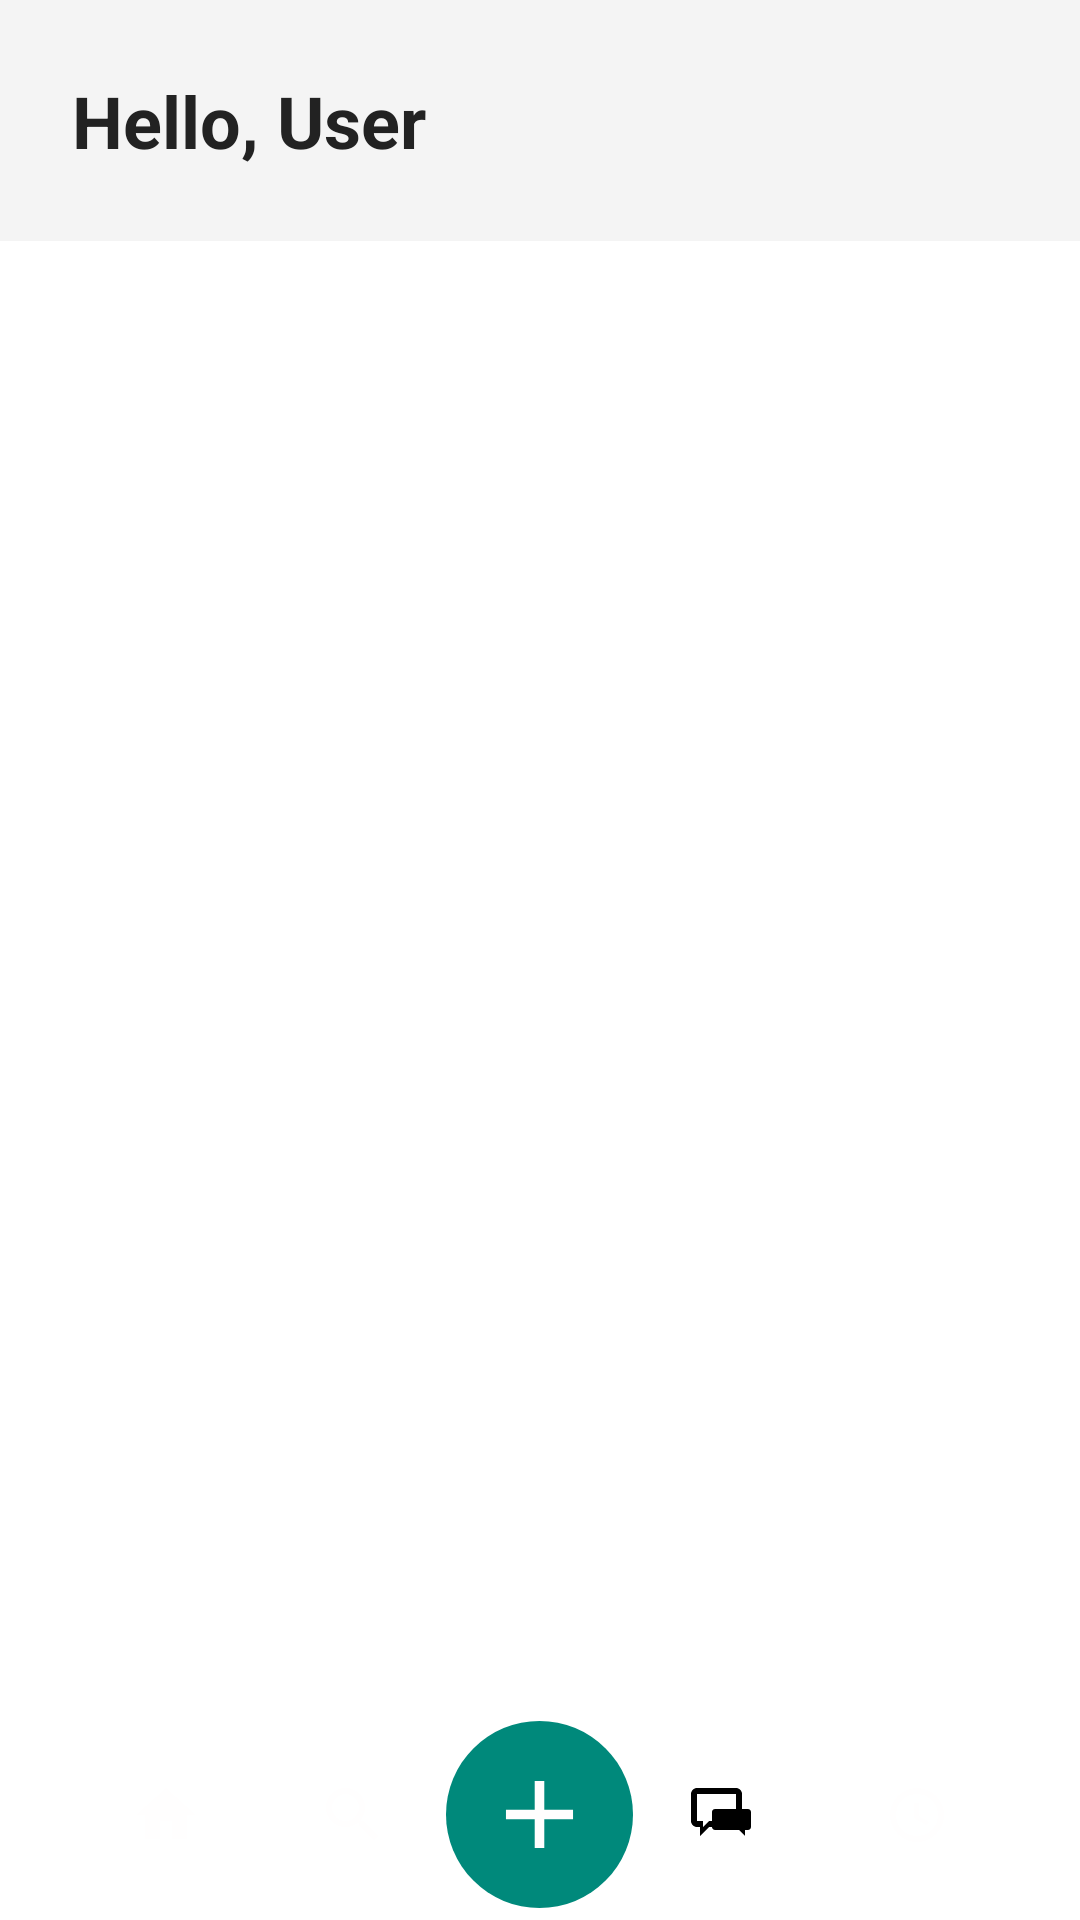

Screen size 1080 x 1920. Icon name, then its box in pixels as detection(x1, y1, x2, y2):
add: detection(446, 1721, 633, 1908)
chat: detection(691, 1788, 751, 1836)
